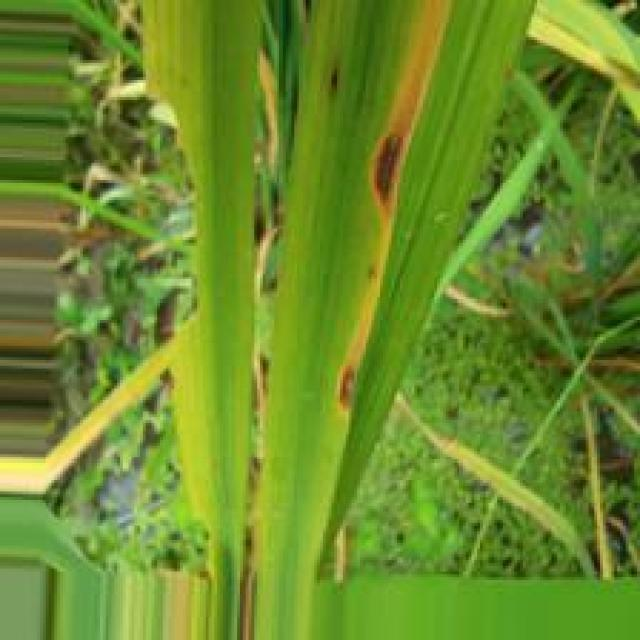Brown_Spot: (367, 126, 408, 227), (333, 362, 356, 422), (320, 58, 342, 101)
